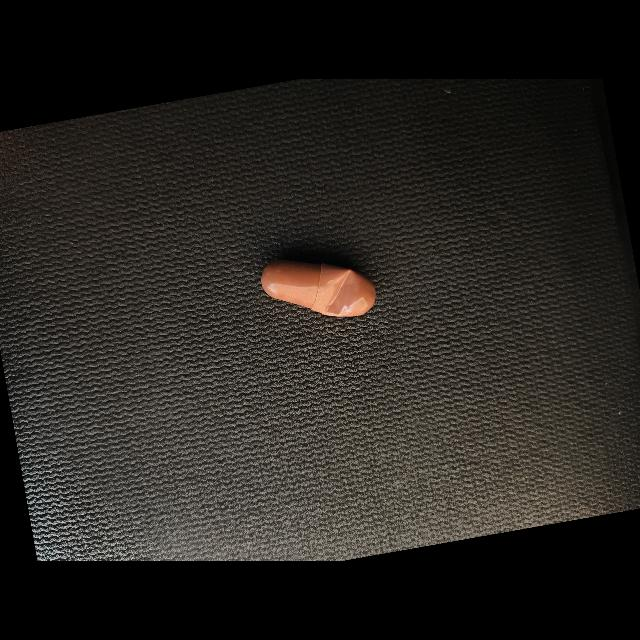Defective Capsule: (319, 269, 365, 316)
